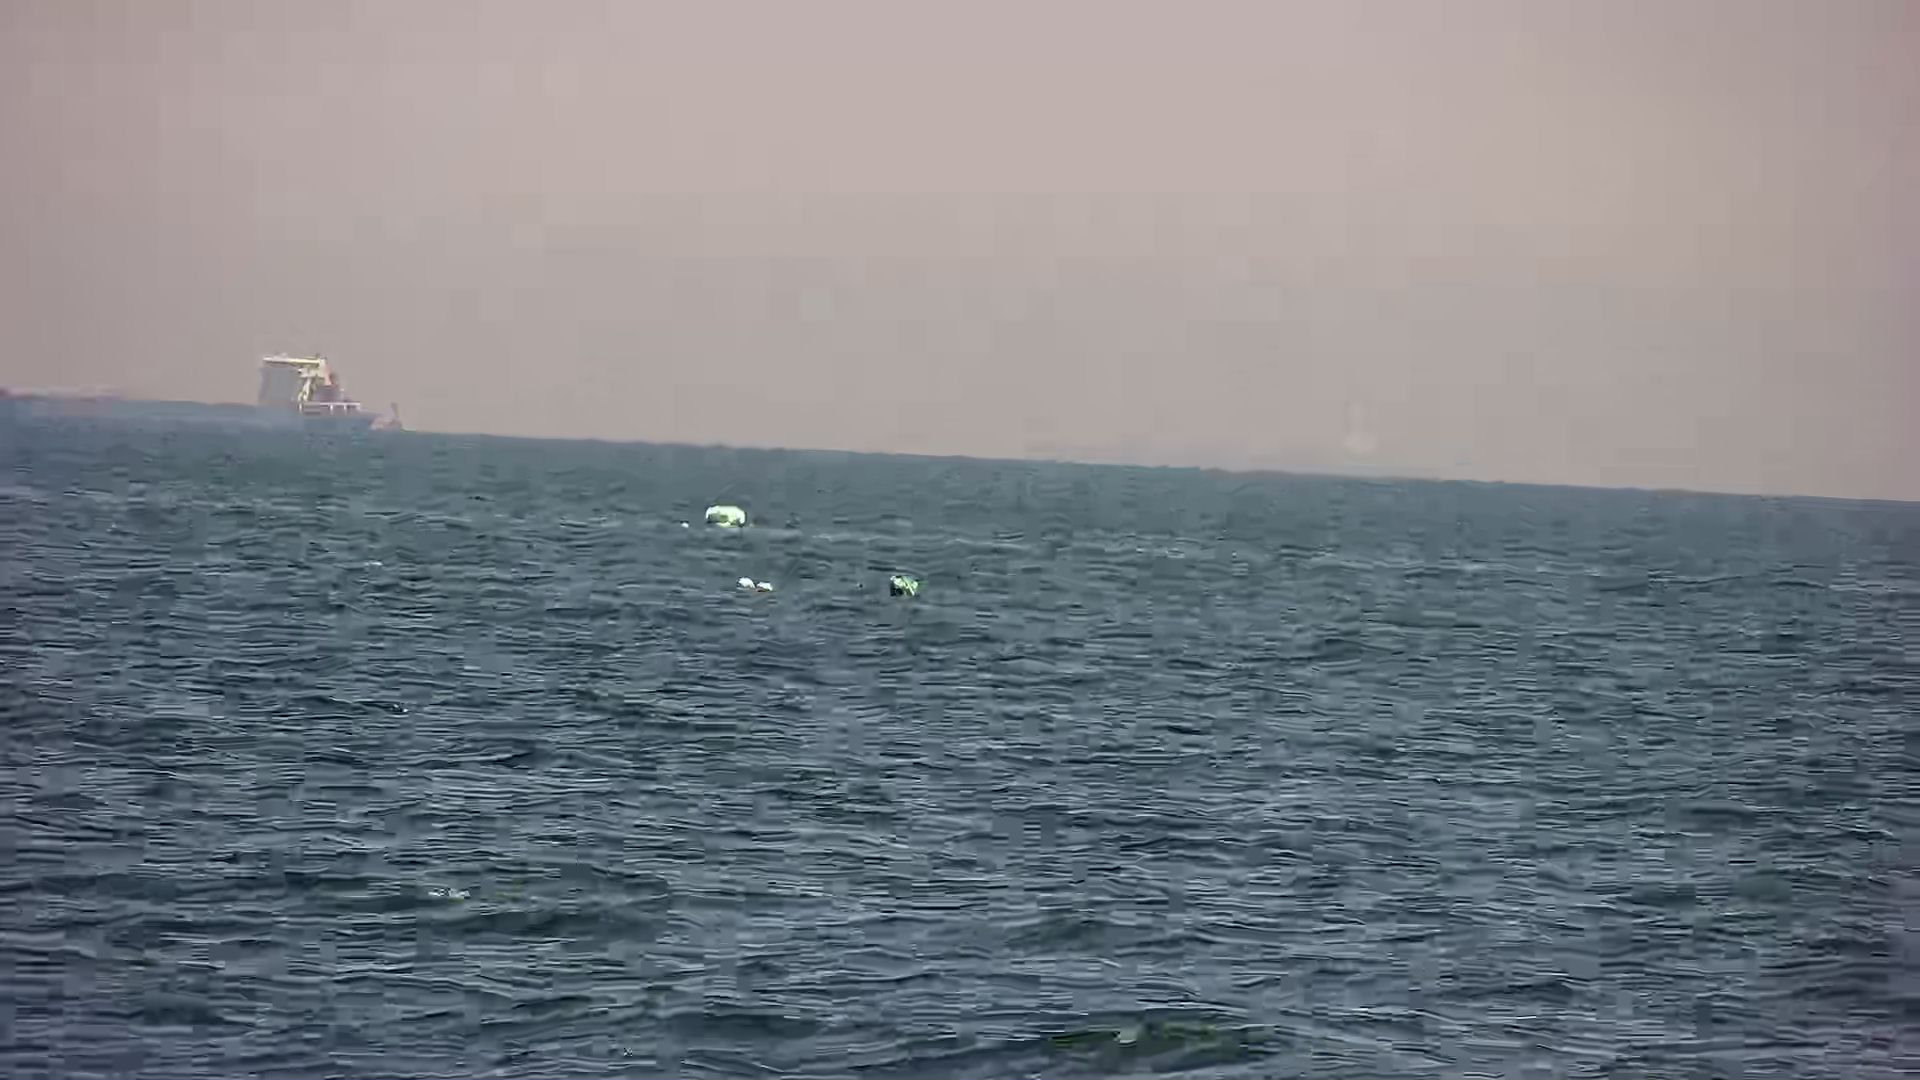rubbish: (690, 497, 760, 543), (882, 568, 936, 613), (724, 564, 789, 600)
ship: (1, 349, 419, 454)
